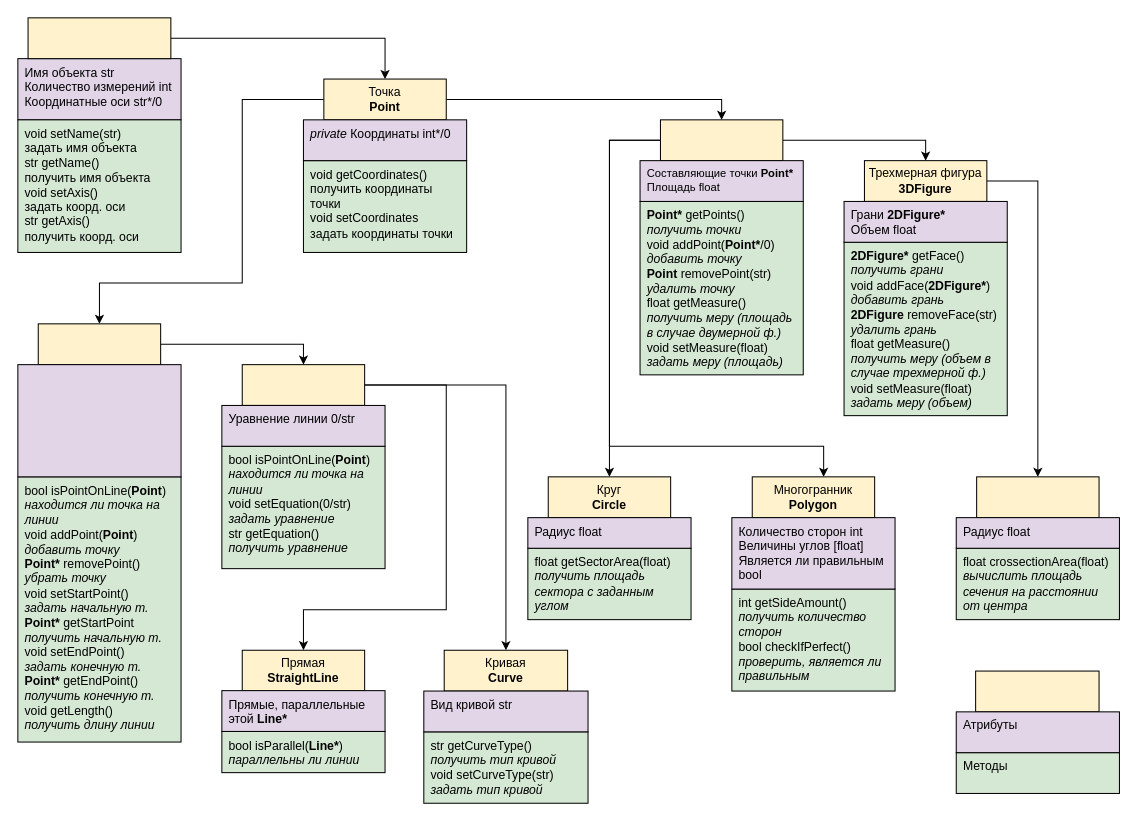
Image size: 1137x821. Some labels were removed from this diagram. The centre of each missing label's shape, as x and y in pixels:
"Геометрический объект GeometricObject" belongs at point 99,38.
"Двумерная фигура 2DFigure" belongs at point 721,140.
"Линия Line" belongs at point 99,344.
"Название класса" belongs at point 1037,691.
"Неломаная SingleLine" belongs at point 303,384.
"Принадлежащие точки Point* Принадлежащие линии Line* Начало Конец Длина int" belongs at point 99,420.
"Сфера Sphere" belongs at point 1037,497.
